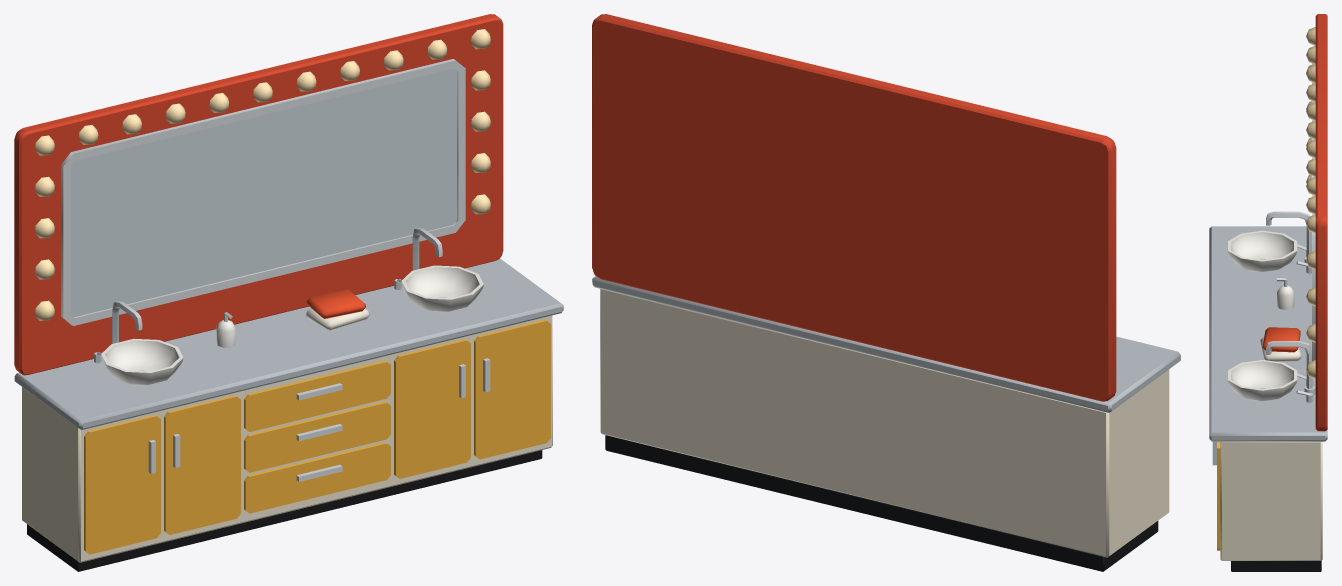
Rendered from Lobby_VanityCounter.fbx.
3 views of the same model, side by side, from view 1: azimuth 30°, elevation 25°; view 2: azimuth 150°, elevation 25°; view 3: azimuth 270°, elevation 25° (orthographic). The views are drawn at different scales.
Parts seen in each view (by area): view 1: Mirror, Doors, MirrorBoard, Counter, Cabinet, Chrome, Porcelain, Bulbs, Kick, TowelB, TowelA; view 2: MirrorBoard, Cabinet, Kick, Counter; view 3: Counter, Cabinet, MirrorBoard, Porcelain, Bulbs, Chrome, Kick, TowelB, Doors, TowelA.
Boxes of the visible parts, x1=… form: Mirror: x1=70, y1=68, x2=457, y2=317; Doors: x1=84, y1=319, x2=550, y2=554; MirrorBoard: x1=14, y1=14, x2=503, y2=375; Counter: x1=14, y1=258, x2=563, y2=430; Cabinet: x1=22, y1=315, x2=552, y2=562; Chrome: x1=61, y1=59, x2=490, y2=481; Porcelain: x1=101, y1=265, x2=483, y2=385; Bulbs: x1=35, y1=29, x2=490, y2=320; Kick: x1=27, y1=450, x2=542, y2=571; TowelB: x1=306, y1=289, x2=365, y2=318; TowelA: x1=306, y1=308, x2=369, y2=330; MirrorBoard: x1=592, y1=14, x2=1116, y2=401; Cabinet: x1=600, y1=289, x2=1169, y2=557; Kick: x1=605, y1=435, x2=1158, y2=571; Counter: x1=592, y1=276, x2=1180, y2=412; Counter: x1=1209, y1=226, x2=1327, y2=441; Cabinet: x1=1220, y1=441, x2=1322, y2=560; MirrorBoard: x1=1315, y1=14, x2=1327, y2=431; Porcelain: x1=1228, y1=230, x2=1297, y2=401; Bulbs: x1=1306, y1=27, x2=1315, y2=378; Chrome: x1=1212, y1=63, x2=1315, y2=465; Kick: x1=1231, y1=560, x2=1321, y2=571; TowelB: x1=1262, y1=327, x2=1300, y2=352; Doors: x1=1217, y1=441, x2=1220, y2=550; TowelA: x1=1260, y1=337, x2=1301, y2=361.
Size of the model in its own units: 1000 by 800 by 240.
